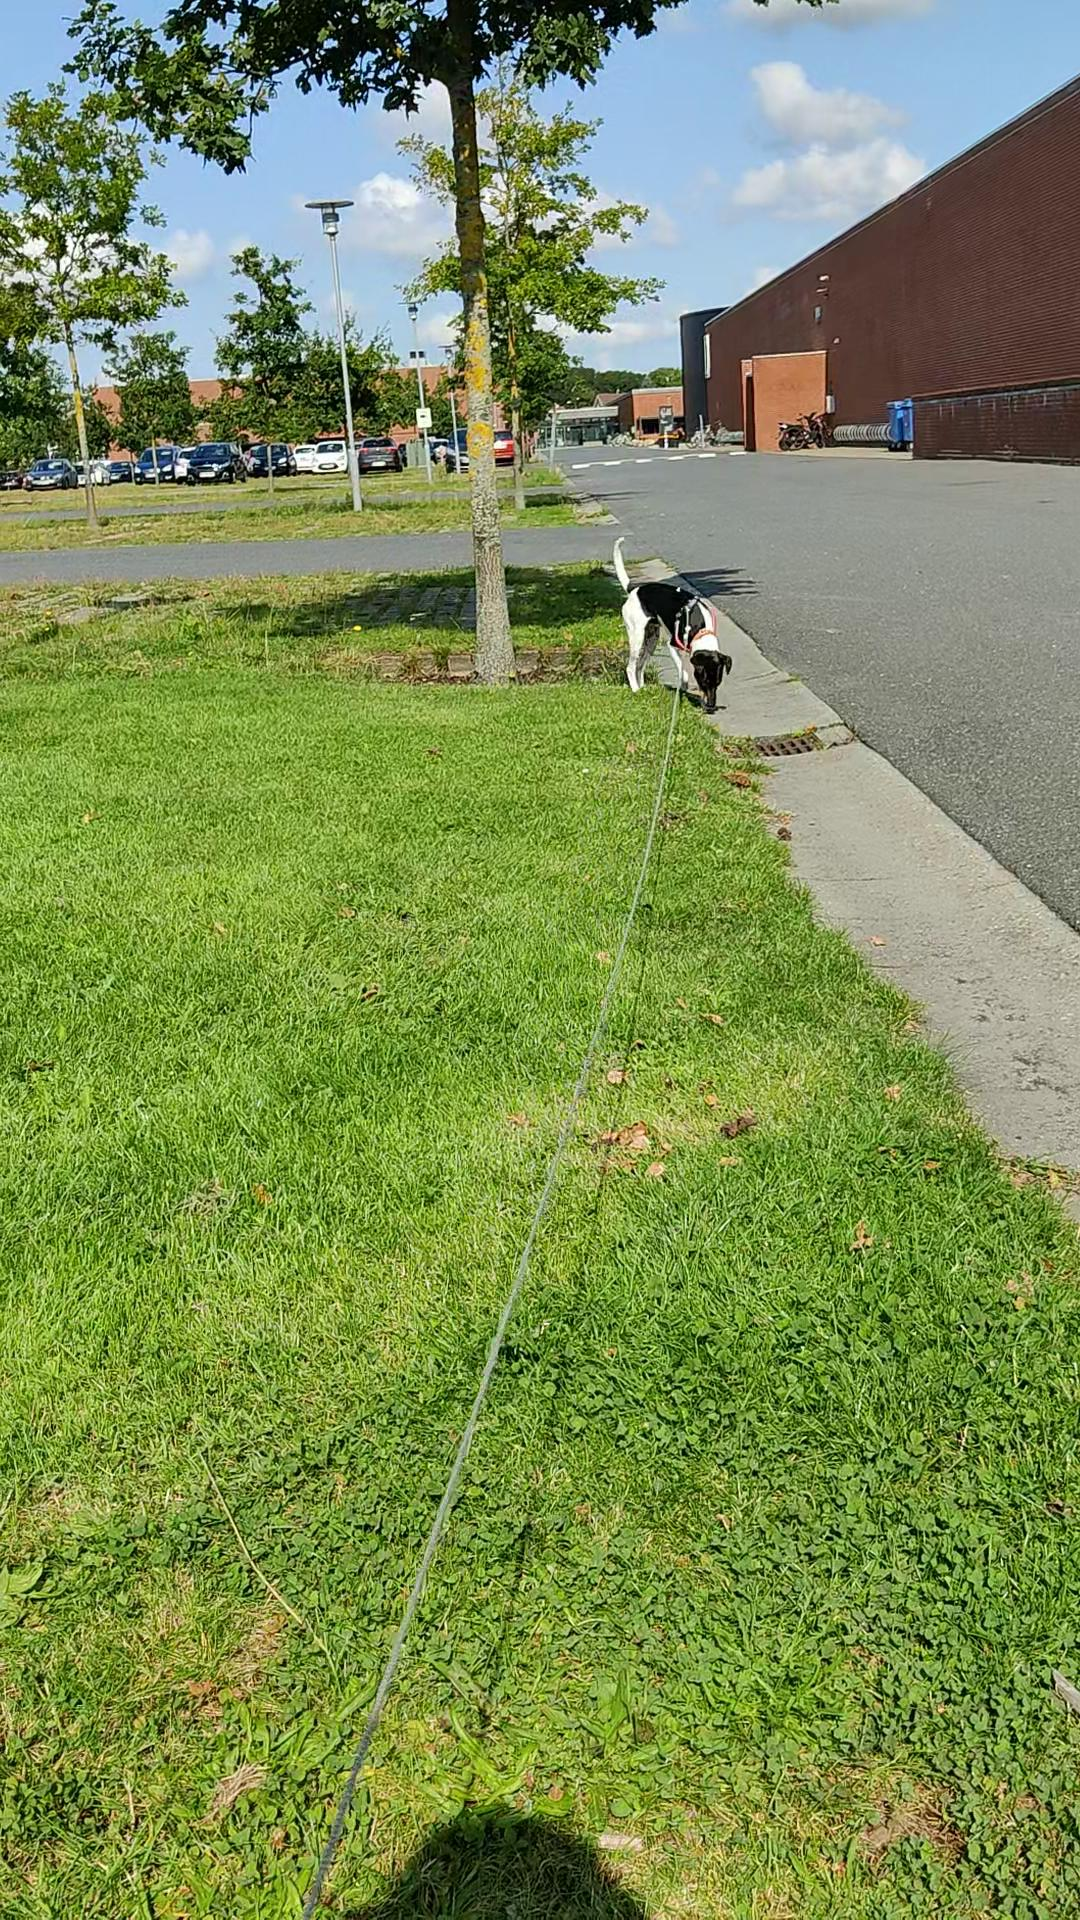Dog: (607, 531, 736, 713)
